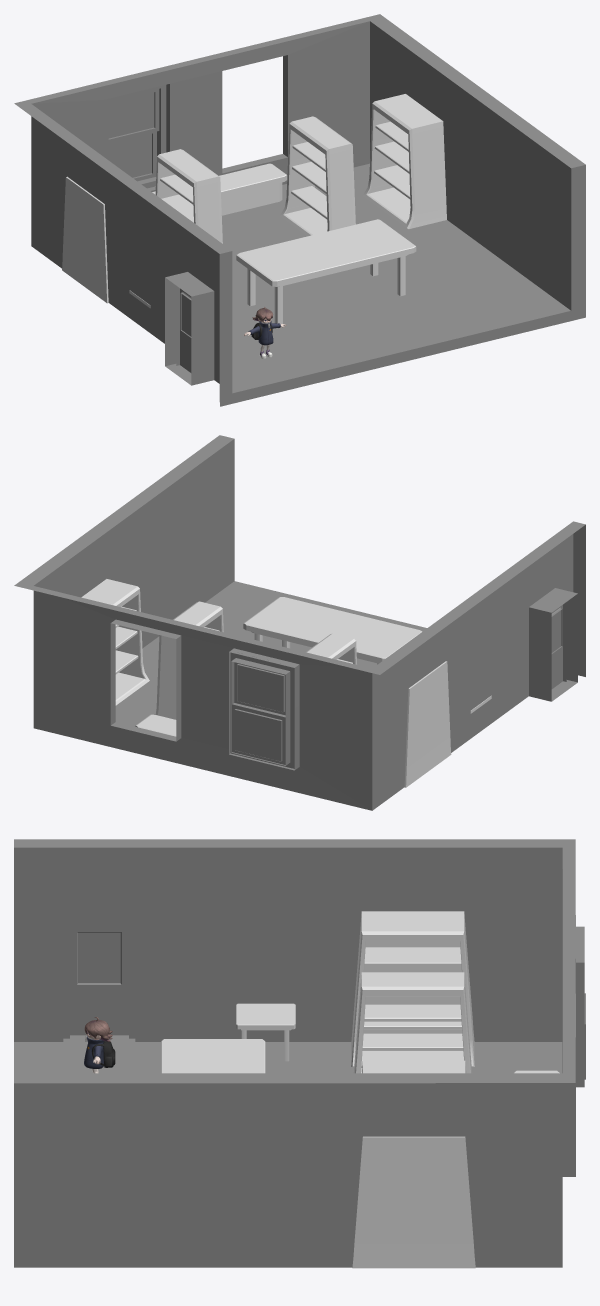
File: book_read.fbx
3 views of the same model, one above another, from view 1: azimuth 30°, elevation 25°; view 2: azimuth 150°, elevation 25°; view 3: azimuth 270°, elevation 25° (orthographic). The views are drawn at different scales.
Parts seen in each view (by area): view 1: Box068, Box085, Box082, Box084, Box080, Box079, Object001, Object003, Object002, Object006; view 2: Box068, Box082, Box080, Object001, Box085, Object002, Box084, Box079, Object006, Object003; view 3: Box068, Box085, Box080, Box079, Object006, Box082, Object004, Box083, Object001, Box084.
Part boxes in pixels (box(x1,y1,x2,y2)): Box068: box(14, 14, 585, 406); Box085: box(362, 94, 446, 228); Box082: box(236, 219, 416, 323); Box084: box(280, 116, 355, 236); Box080: box(62, 176, 108, 303); Box079: box(155, 149, 222, 243); Object001: box(104, 85, 166, 188); Object003: box(152, 163, 287, 215); Object002: box(106, 131, 156, 181); Object006: box(180, 288, 191, 372); Box068: box(14, 435, 585, 810); Box082: box(243, 597, 422, 664); Box080: box(404, 661, 451, 787); Object001: box(230, 652, 294, 768); Box085: box(81, 579, 149, 705); Object002: box(232, 704, 285, 764); Box084: box(155, 601, 223, 719); Box079: box(306, 633, 356, 664); Object006: box(551, 605, 562, 688); Object003: box(135, 714, 176, 736); Box068: box(14, 839, 575, 1267); Box085: box(352, 1136, 475, 1268); Box080: box(351, 911, 474, 1066); Box079: box(353, 972, 471, 1073); Object006: box(70, 924, 128, 1035); Box082: box(161, 1039, 265, 1073); Object004: box(63, 920, 135, 1038); Box083: box(236, 1003, 295, 1061); Object001: box(576, 926, 584, 1087); Box084: box(362, 1060, 466, 1073).
Size of the model in its own units: 2665 by 1034 by 2570.
